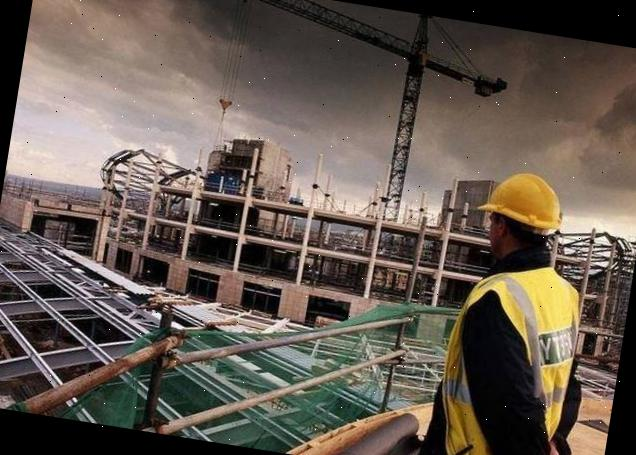helmet: (470, 162, 570, 236)
wear: (435, 254, 587, 455)
